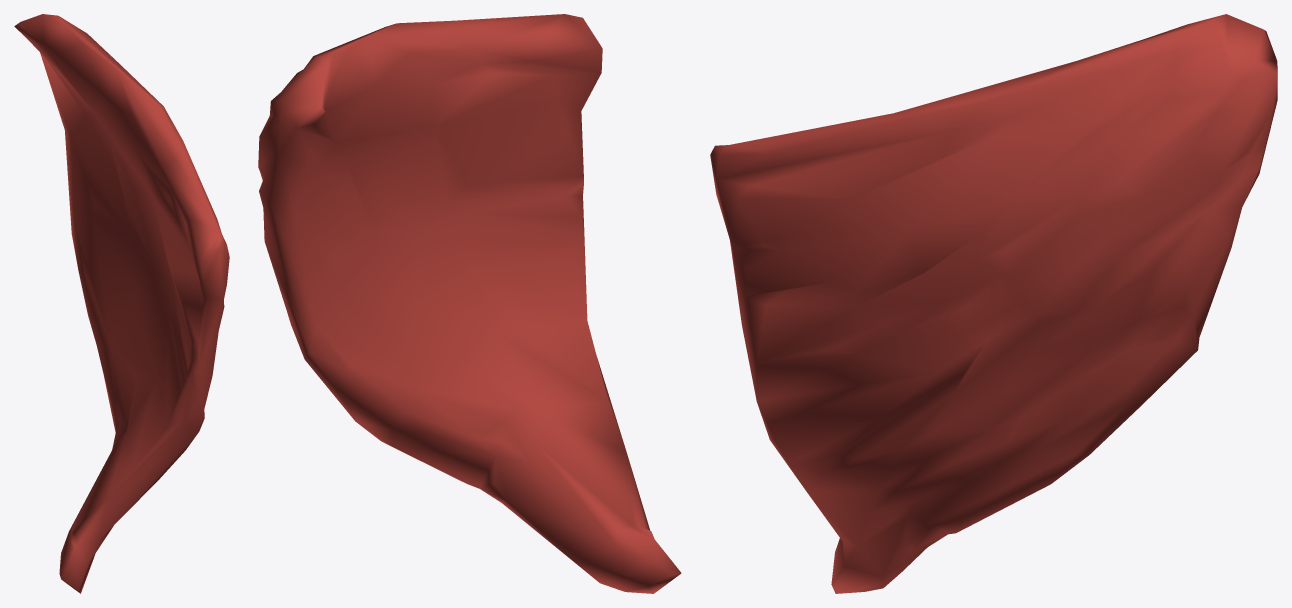
Rendered from musculos-bucinator-l.glb.
3 renders of one model, left to right at view 1: azimuth 30°, elevation 25°; view 2: azimuth 150°, elevation 25°; view 3: azimuth 270°, elevation 25°, orthographic. The views are drawn at different scales.
Parts seen in each view (by area): view 1: Bucinator.l; view 2: Bucinator.l; view 3: Bucinator.l.
Part boxes in pixels (x1,y1,x2,y2): Bucinator.l: (14,14,229,593); Bucinator.l: (258,14,681,593); Bucinator.l: (710,14,1277,593).
Size of the model in its own units: 0.015 by 0.0363 by 0.0288.
